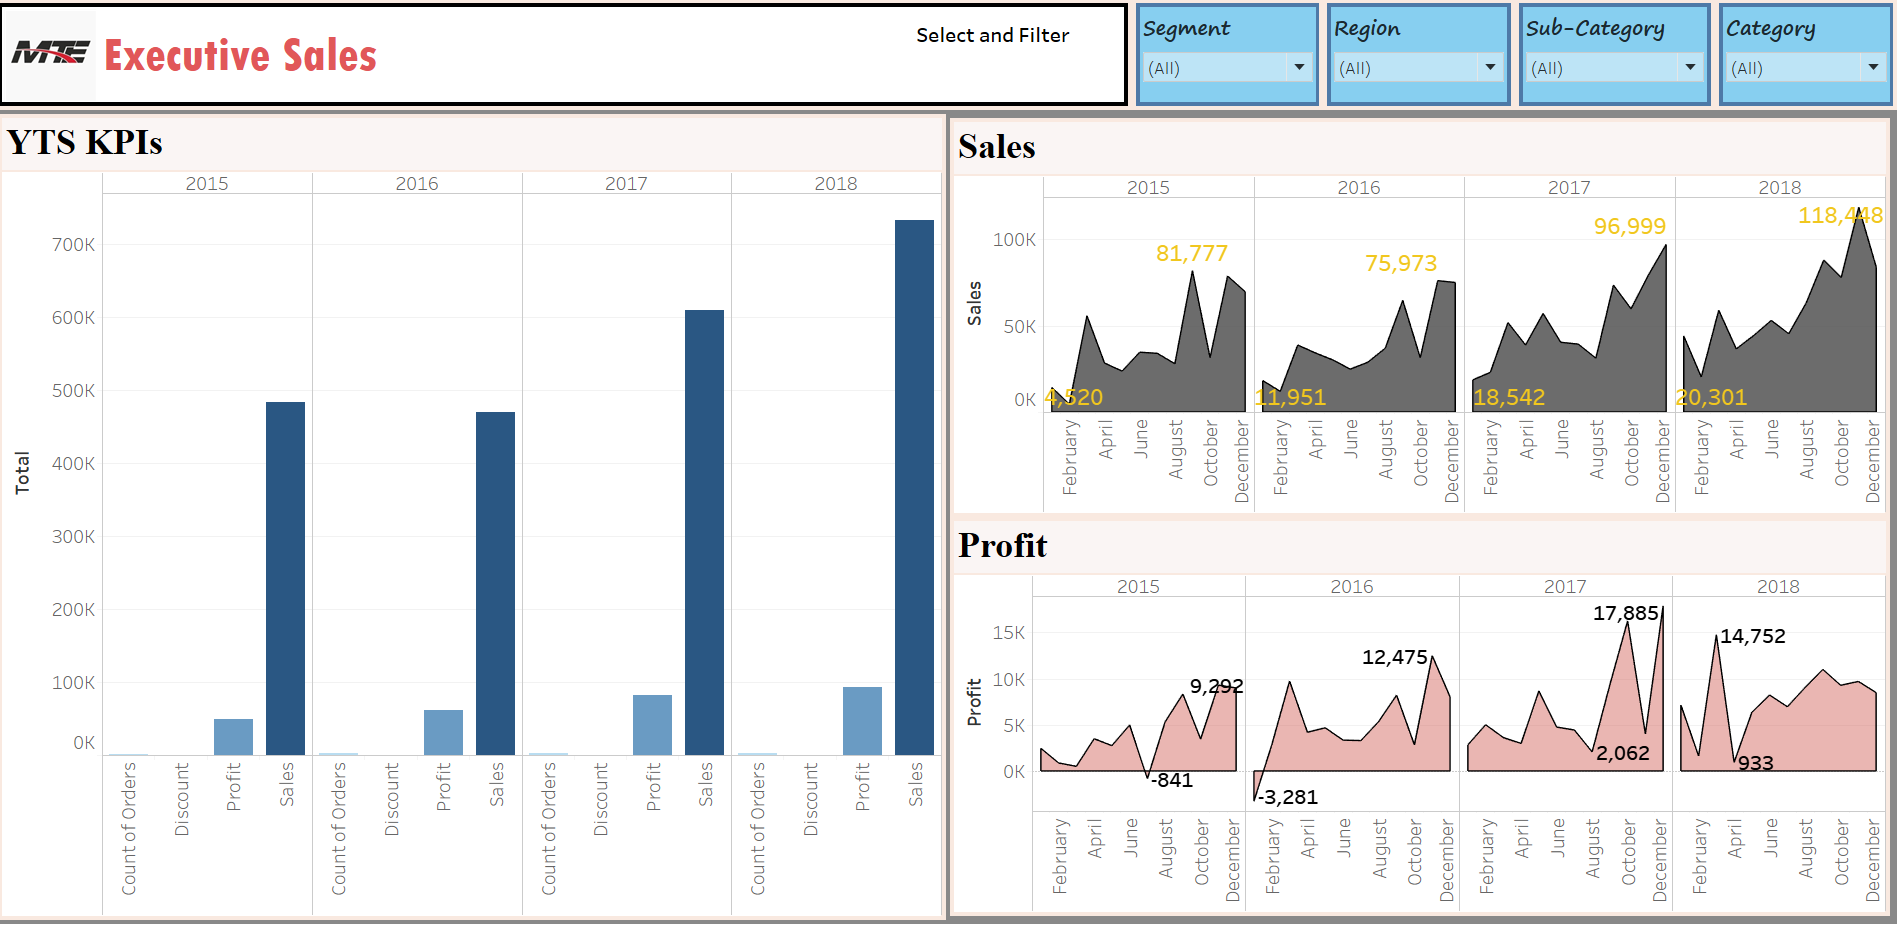

What the dashboard file says about the page in this screenshot:
{"tool":"tableau","page":{"name":"Dashboard 1","canvas":[1000,1000],"units":"permille","ordinal":0},"visuals":[{"type":"worksheet","box":[0,0,1000,1000]},{"type":"worksheet","box":[5,9.8,591.5,117.4]},{"type":"worksheet","title":"Sales","mark":"Area","rows":["Sales"],"cols":["Procedure Date (Order Date)","Procedure Date (Order Date)"],"param":"[federated.1pp4btr02eh4us1aeg5x313ho8eb].[none:Segment:nk]","box":[596.5,9.8,99.6,117.4]},{"type":"worksheet","title":"Sales","mark":"Area","rows":["Sales"],"cols":["Procedure Date (Order Date)","Procedure Date (Order Date)"],"param":"[federated.1pp4btr02eh4us1aeg5x313ho8eb].[none:Region:nk]","box":[696.1,9.8,99.6,117.4]},{"type":"worksheet","title":"Sales","mark":"Area","rows":["Sales"],"cols":["Procedure Date (Order Date)","Procedure Date (Order Date)"],"param":"[federated.1pp4btr02eh4us1aeg5x313ho8eb].[none:Sub-Category:nk]","box":[795.7,9.8,104,117.4]},{"type":"worksheet","title":"Sales","mark":"Area","rows":["Sales"],"cols":["Procedure Date (Order Date)","Procedure Date (Order Date)"],"param":"[federated.1pp4btr02eh4us1aeg5x313ho8eb].[none:Category:nk]","box":[899.7,9.8,95.3,117.4]},{"type":"worksheet","param":"Image/[number redacted].jpg","box":[9.3,19.6,71.6,99]},{"type":"worksheet","box":[466.4,30.6,116.4,85.6]},{"type":"worksheet","param":"horz","box":[5,127.1,990,863.1]},{"type":"worksheet","box":[5,127.1,990,863.1]},{"type":"worksheet","title":"YTS KPIs","mark":"Bar","cols":["Procedure Date (Order Date)"],"box":[7.5,132,492.5,853.3]},{"type":"worksheet","param":"horz","box":[500,132,492.5,853.3]},{"type":"worksheet","param":"vert","box":[500,132,492.5,853.3]},{"type":"worksheet","title":"Sales","mark":"Area","rows":["Sales"],"cols":["Procedure Date (Order Date)","Procedure Date (Order Date)"],"box":[502.5,136.9,487.6,421.8]},{"type":"worksheet","title":"Profit","mark":"Area","rows":["Profit"],"cols":["Procedure Date (Order Date)","Procedure Date (Order Date)"],"box":[502.5,558.7,487.6,421.8]}]}

Visuals, with their boxes on the dashboard's canvas, which has no fixed pixel size, in thousandths of its width and height (x1, y1, x2, y2). These are canvas units, not pixel positions in the 1897x931 screenshot, which may show the page scaled, cropped or inside an application window:
worksheet: (0,0,1000,1000)
worksheet: (5,10,596,127)
"Sales" worksheet (Area marks): (596,10,696,127)
"Sales" worksheet (Area marks): (696,10,796,127)
"Sales" worksheet (Area marks): (796,10,900,127)
"Sales" worksheet (Area marks): (900,10,995,127)
worksheet: (9,20,81,119)
worksheet: (466,31,583,116)
worksheet: (5,127,995,990)
worksheet: (5,127,995,990)
"YTS KPIs" worksheet (Bar marks): (8,132,500,985)
worksheet: (500,132,992,985)
worksheet: (500,132,992,985)
"Sales" worksheet (Area marks): (502,137,990,559)
"Profit" worksheet (Area marks): (502,559,990,980)
